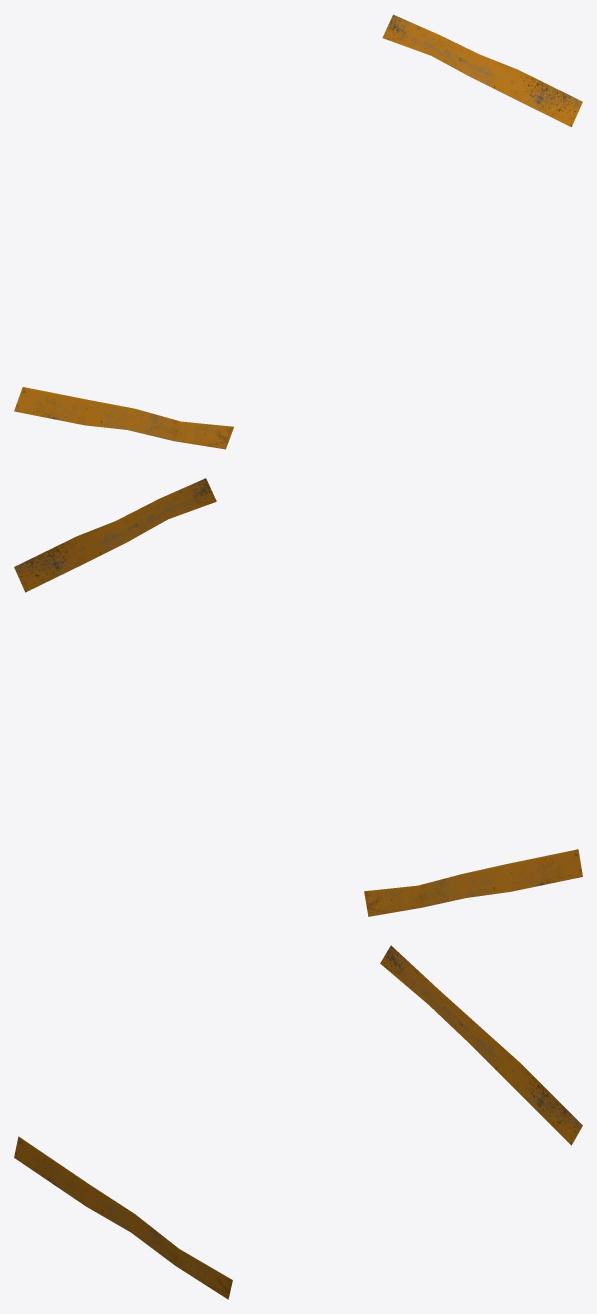
Rendered from sm74_103_mapsewer01a_01.fbx.
3 views of the same model, one above another, from view 1: azimuth 30°, elevation 25°; view 2: azimuth 150°, elevation 25°; view 3: azimuth 330°, elevation 25° (orthographic).
Visible parts, largest first — view 1: LOD_1_Group_0_Sub_1__sm26_024_VLongBox01A_A_Mat; view 2: LOD_1_Group_0_Sub_1__sm26_024_VLongBox01A_A_Mat; view 3: LOD_1_Group_0_Sub_1__sm26_024_VLongBox01A_A_Mat.
Boxes of the visible parts, <box> form: LOD_1_Group_0_Sub_1__sm26_024_VLongBox01A_A_Mat: <box>14,14,582,449</box>; LOD_1_Group_0_Sub_1__sm26_024_VLongBox01A_A_Mat: <box>14,478,582,916</box>; LOD_1_Group_0_Sub_1__sm26_024_VLongBox01A_A_Mat: <box>14,945,582,1299</box>.
Bounding box in the file's own units: 1.53 × 1.02 × 0.0188.
